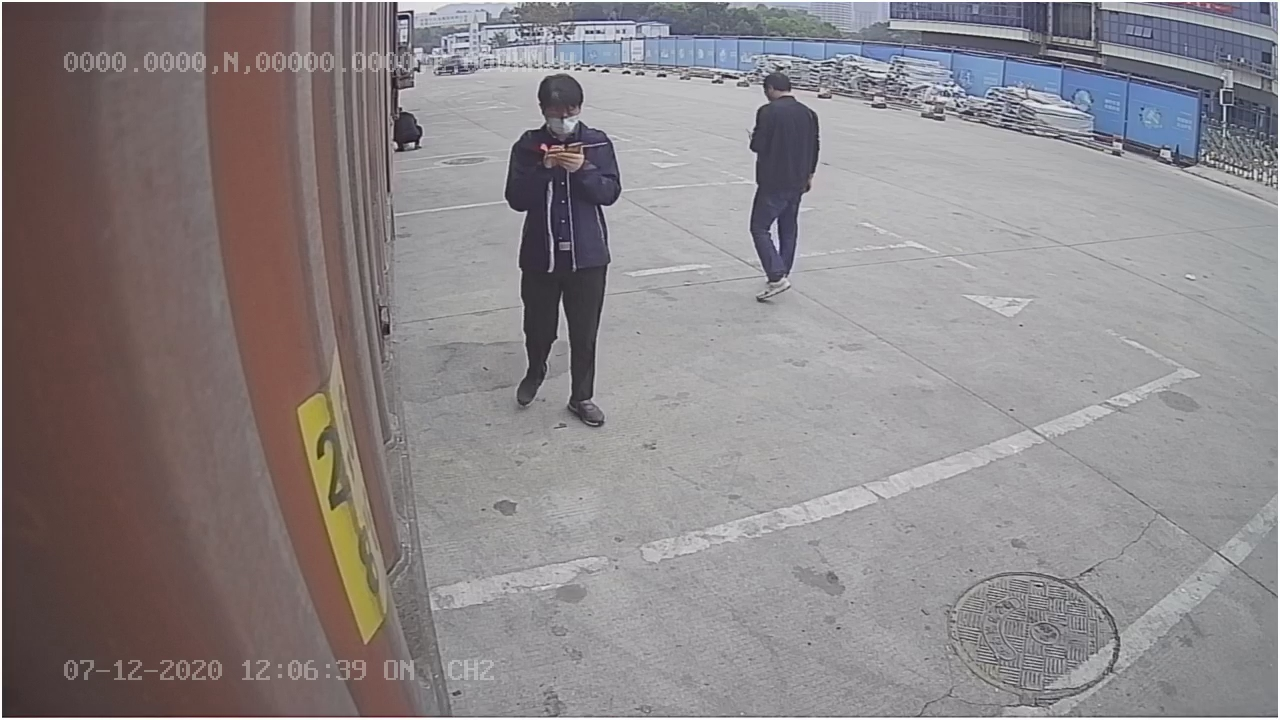person: (504, 73, 625, 429), (736, 69, 825, 301)
